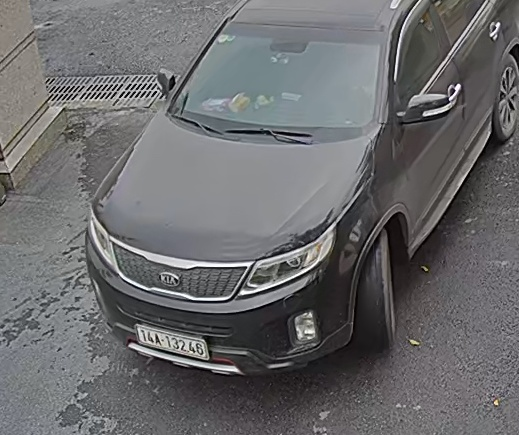vehicle plate: (132, 320, 212, 365)
